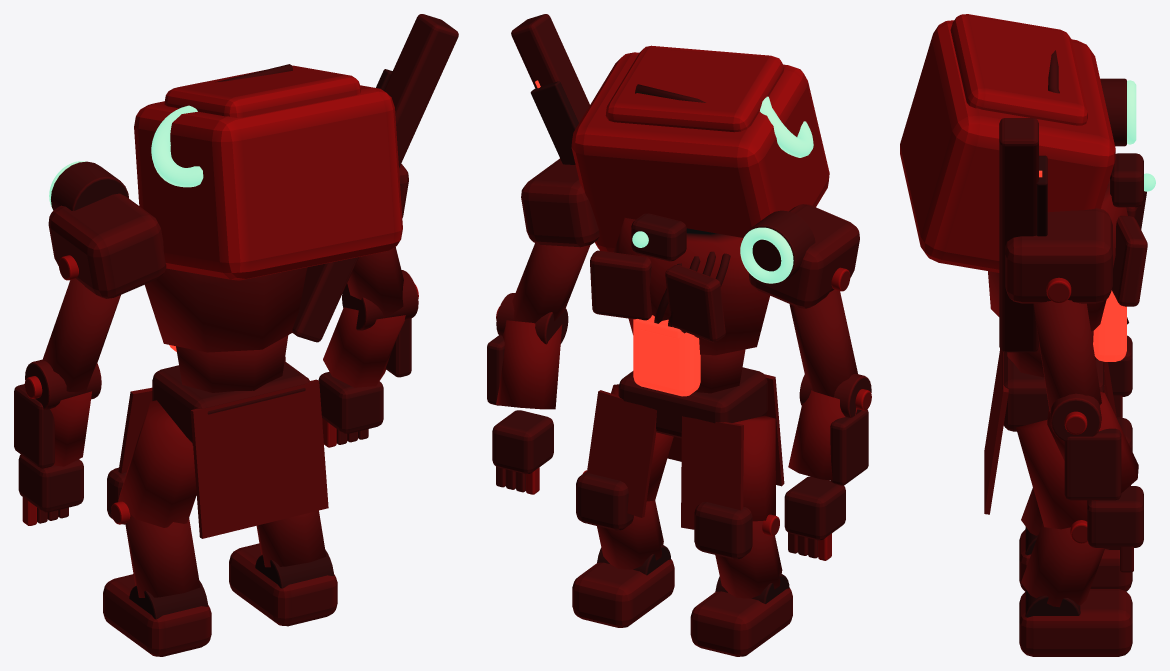
Rendered from mf_sherman.glb.
3 renders of one model, left to right at view 1: azimuth 30°, elevation 25°; view 2: azimuth 150°, elevation 25°; view 3: azimuth 270°, elevation 25°, orthographic. The views are drawn at different scales.
Visible parts, largest first — view 1: reactor, cloth_back, chest, pauldron_l, rail, thigh_l, reactor_top, upper_l, boot_l, boot_r, shin_l, abdomen (+16 smaller); view 2: reactor, reactor_top, chest, cloth_r, cloth_l, pauldron_r, pauldron_l, boot_l, boot_r, pelvis_block, fore_r, upper_l (+25 smaller); view 3: reactor, reactor_top, pauldron_r, rail, boot_r, upper_r, shin_r, thigh_r, fore_plate_r, hand_r, pelvis_block, chest_plate_1 (+17 smaller).
Boxes of the visible parts, x1=… form: reactor: x1=134, y1=85, x2=402, y2=280; cloth_back: x1=190, y1=379, x2=328, y2=538; chest: x1=145, y1=267, x2=307, y2=352; pauldron_l: x1=48, y1=193, x2=166, y2=298; rail: x1=292, y1=14, x2=458, y2=342; thigh_l: x1=118, y1=400, x2=196, y2=527; reactor_top: x1=164, y1=65, x2=360, y2=117; upper_l: x1=42, y1=278, x2=120, y2=392; boot_l: x1=103, y1=574, x2=211, y2=656; boot_r: x1=229, y1=543, x2=337, y2=626; shin_l: x1=125, y1=514, x2=200, y2=597; abdomen: x1=176, y1=335, x2=288, y2=392; reactor: x1=571, y1=52, x2=829, y2=252; reactor_top: x1=605, y1=45, x2=784, y2=132; chest: x1=613, y1=218, x2=769, y2=355; cloth_r: x1=587, y1=390, x2=656, y2=517; cloth_l: x1=681, y1=416, x2=743, y2=529; pauldron_r: x1=521, y1=158, x2=599, y2=247; pauldron_l: x1=749, y1=204, x2=859, y2=308; boot_l: x1=690, y1=588, x2=792, y2=656; boot_r: x1=572, y1=559, x2=674, y2=627; pelvis_block: x1=618, y1=367, x2=767, y2=438; fore_r: x1=496, y1=320, x2=562, y2=409; upper_l: x1=789, y1=290, x2=857, y2=397; reactor: x1=900, y1=20, x2=1115, y2=272; reactor_top: x1=950, y1=14, x2=1087, y2=125; pauldron_r: x1=1005, y1=208, x2=1112, y2=303; rail: x1=999, y1=118, x2=1038, y2=352; boot_r: x1=1019, y1=589, x2=1132, y2=656; upper_r: x1=1033, y1=300, x2=1101, y2=412; shin_r: x1=1021, y1=523, x2=1104, y2=607; thigh_r: x1=1016, y1=419, x2=1087, y2=529; fore_plate_r: x1=1064, y1=428, x2=1121, y2=500; hand_r: x1=1087, y1=486, x2=1143, y2=547; pelvis_block: x1=1002, y1=352, x2=1104, y2=431; chest_plate_1: x1=1112, y1=215, x2=1147, y2=306.
Size of the model in its own units: 0.8185 by 1.14 by 0.4511.
